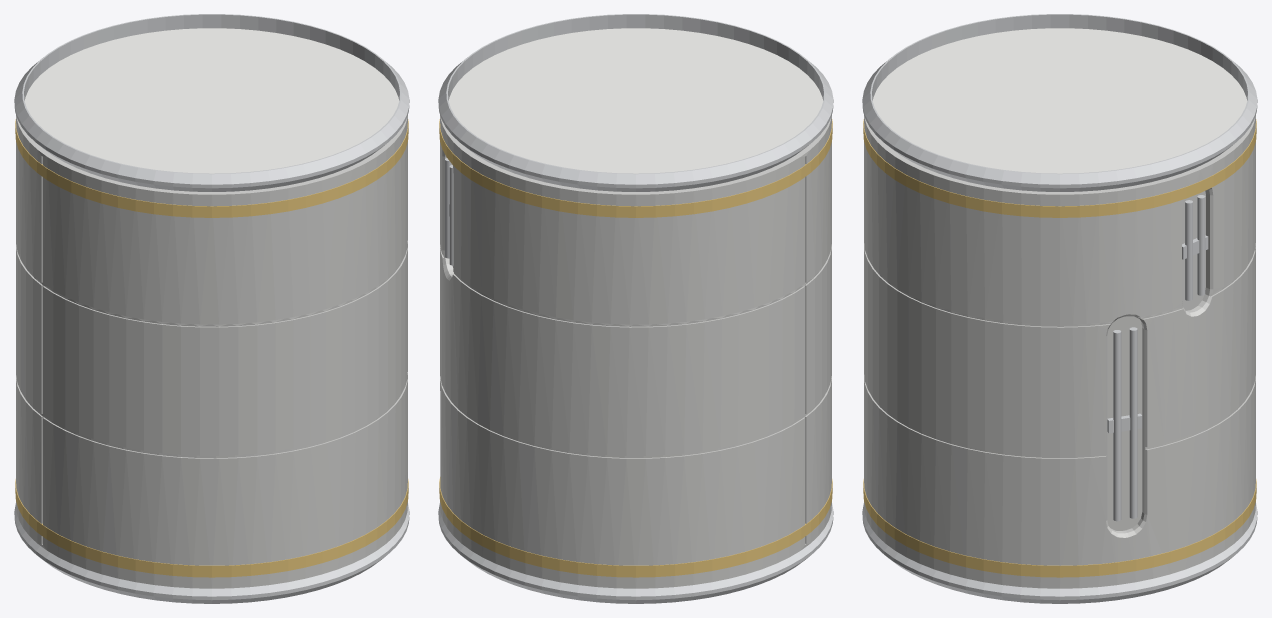
The model's file is ax_tank_05_hydrolox_m_short.glb.
3 renders of one model, left to right at view 1: azimuth 30°, elevation 25°; view 2: azimuth 150°, elevation 25°; view 3: azimuth 270°, elevation 25°, orthographic.
Visible parts, largest first — view 1: mli_blanket, dome_caps, end_rings, blanket_bands; view 2: mli_blanket, dome_caps, end_rings, blanket_bands, raceway_lines; view 3: mli_blanket, dome_caps, end_rings, blanket_bands, raceway_lines.
Part boxes in pixels (bbox=[...]): mli_blanket: bbox=[16, 115, 407, 588]; dome_caps: bbox=[25, 28, 398, 173]; end_rings: bbox=[14, 14, 409, 603]; blanket_bands: bbox=[15, 119, 408, 577]; mli_blanket: bbox=[440, 115, 831, 588]; dome_caps: bbox=[449, 28, 822, 173]; end_rings: bbox=[438, 14, 833, 603]; blanket_bands: bbox=[439, 119, 832, 577]; raceway_lines: bbox=[445, 158, 453, 265]; mli_blanket: bbox=[864, 115, 1255, 588]; dome_caps: bbox=[873, 28, 1246, 173]; end_rings: bbox=[862, 14, 1257, 603]; blanket_bands: bbox=[863, 119, 1256, 577]; raceway_lines: bbox=[1107, 195, 1208, 521].
Size of the model in its own units: 2.5 by 3 by 2.5.
